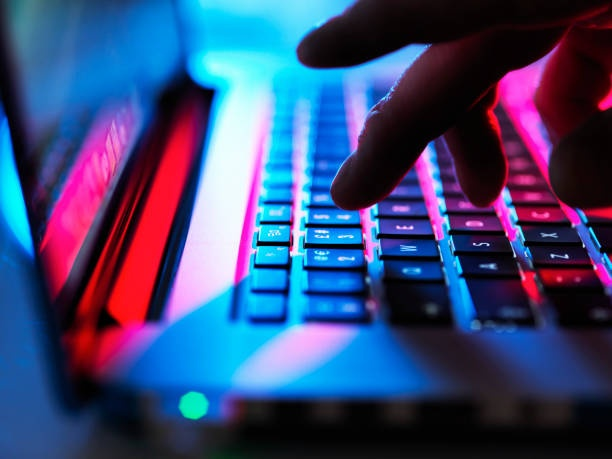keyboard: (235, 39, 605, 328)
